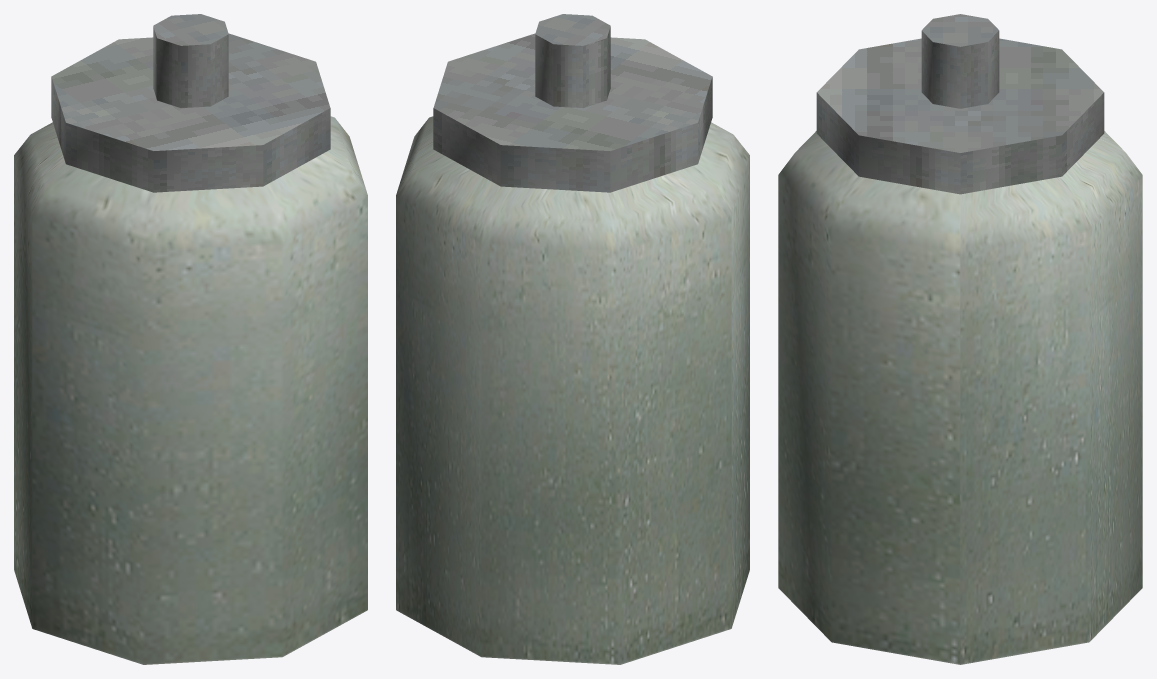
File: edb_con_tato_jar_funk_s01_l0.fbx
The picture shows the model from 3 angles, left to right: view 1: azimuth 30°, elevation 25°; view 2: azimuth 150°, elevation 25°; view 3: azimuth 270°, elevation 25°; orthographic projection.
Parts seen in each view (by area): view 1: mesh_node; view 2: mesh_node; view 3: mesh_node.
Boxes of the visible parts, x1=… form: mesh_node: x1=14, y1=14, x2=367, y2=664; mesh_node: x1=396, y1=14, x2=749, y2=664; mesh_node: x1=778, y1=14, x2=1142, y2=664.
Bounding box in the file's own units: 0.2 × 0.3375 × 0.2.
3 materials, 3 textured.
